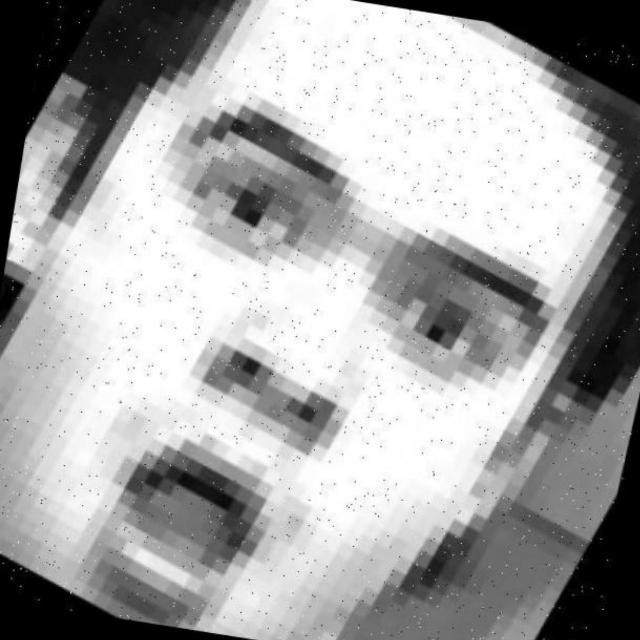Surprised: (17, 36, 572, 640)
